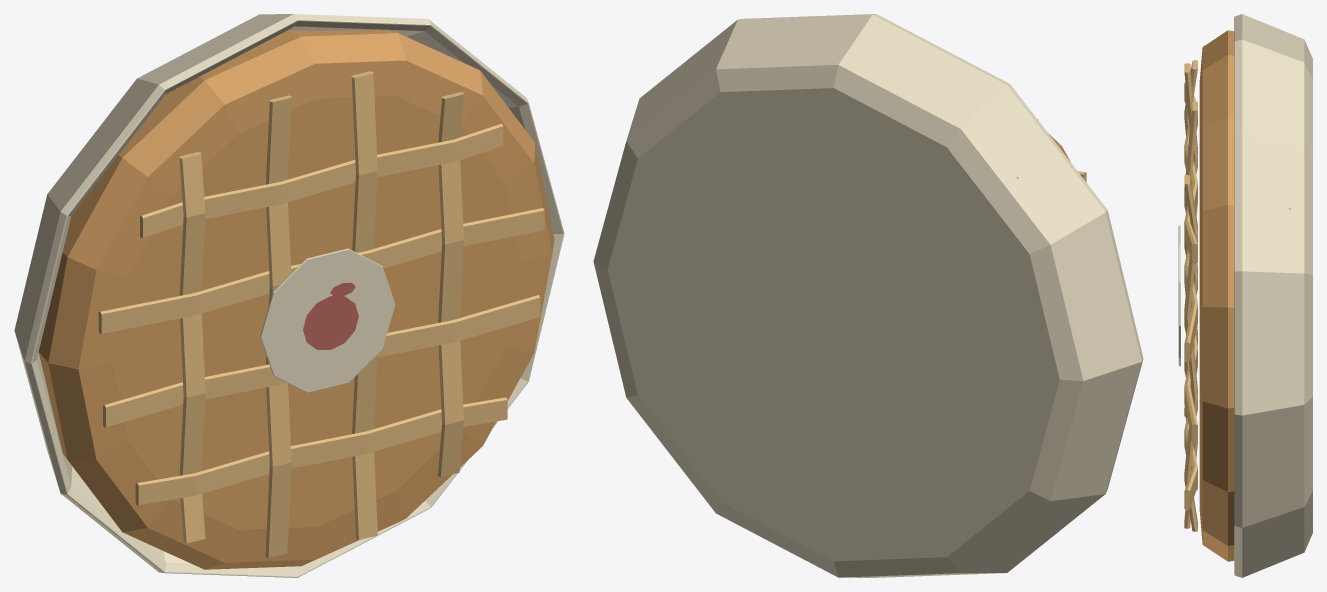
File: apple_pie.glb
The picture shows the model from 3 angles, left to right: view 1: azimuth 30°, elevation 25°; view 2: azimuth 150°, elevation 25°; view 3: azimuth 270°, elevation 25°; orthographic projection. The views are drawn at different scales.
Visible parts, largest first — view 1: apple_pie; view 2: apple_pie; view 3: apple_pie.
Boxes of the visible parts, x1,y1,x2,y2 form: apple_pie: [14, 14, 564, 577]; apple_pie: [593, 14, 1143, 577]; apple_pie: [1178, 14, 1312, 577].
Bounding box in the file's own units: 0.2 × 0.2 × 0.0498.
